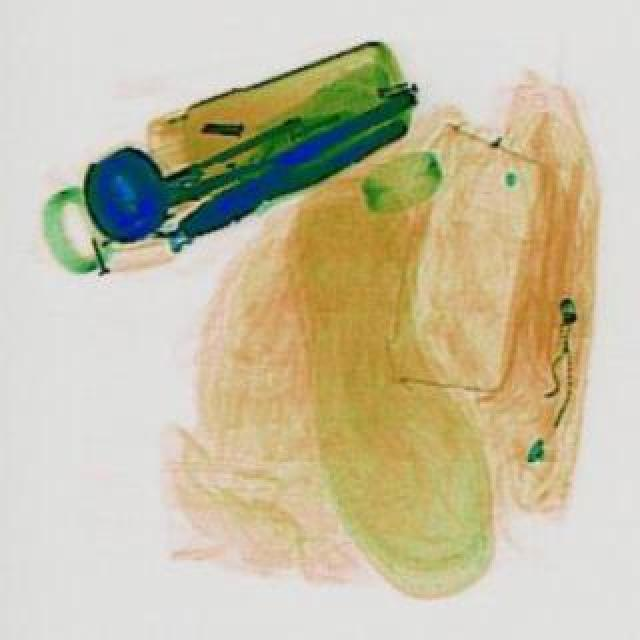wrench: (166, 82, 428, 246)
